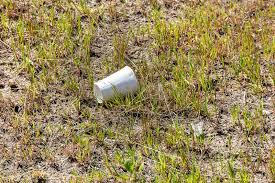paper_cup: (94, 65, 139, 103)
